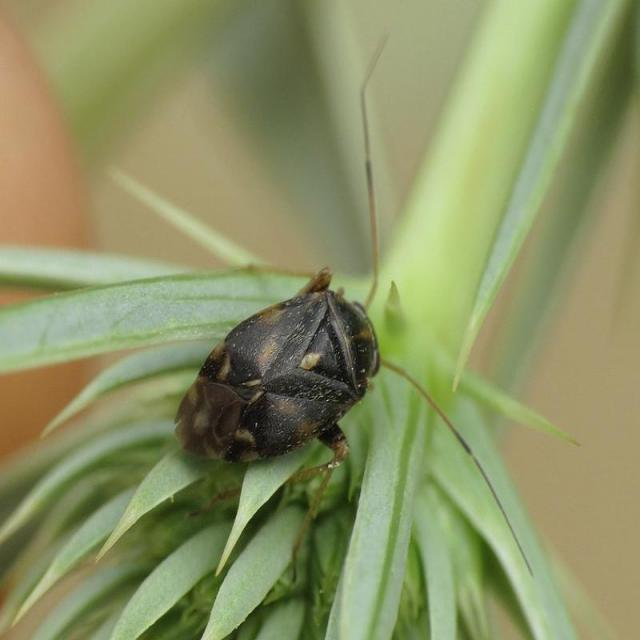Miridae-Adult-: (172, 31, 492, 530)
